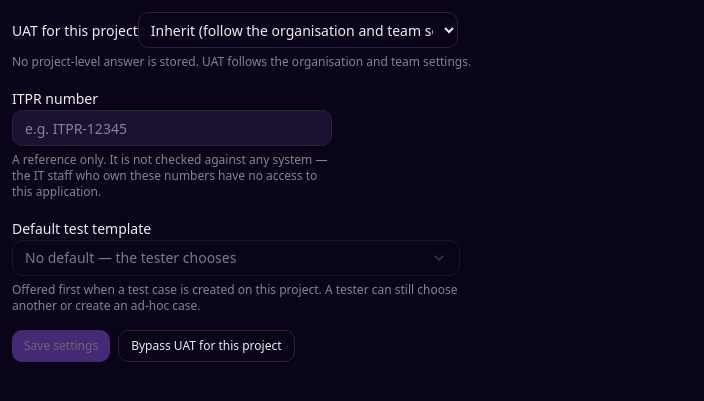
Test case: enablement has three states, and inherit is one of them › states the one-way rule for "on", because a project cannot grant what was withdrawn
Select "On for this project" in the dropdown labelled "UAT for this project": (298, 30) left=138, top=12, right=458, bottom=48
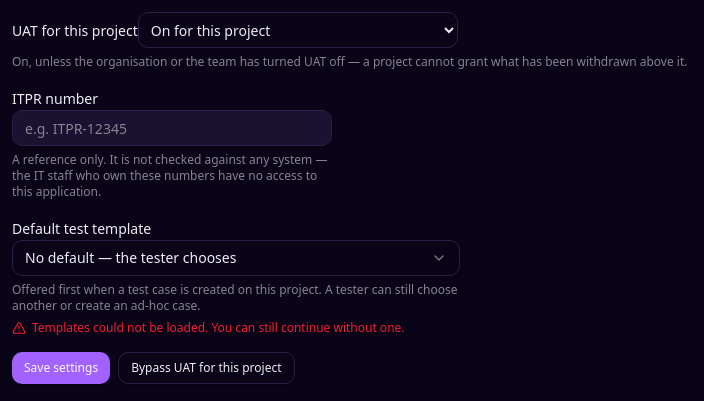
expect the text "cannot grant what has been withdrawn" is shown: met, box left=12, top=53, right=687, bottom=70
